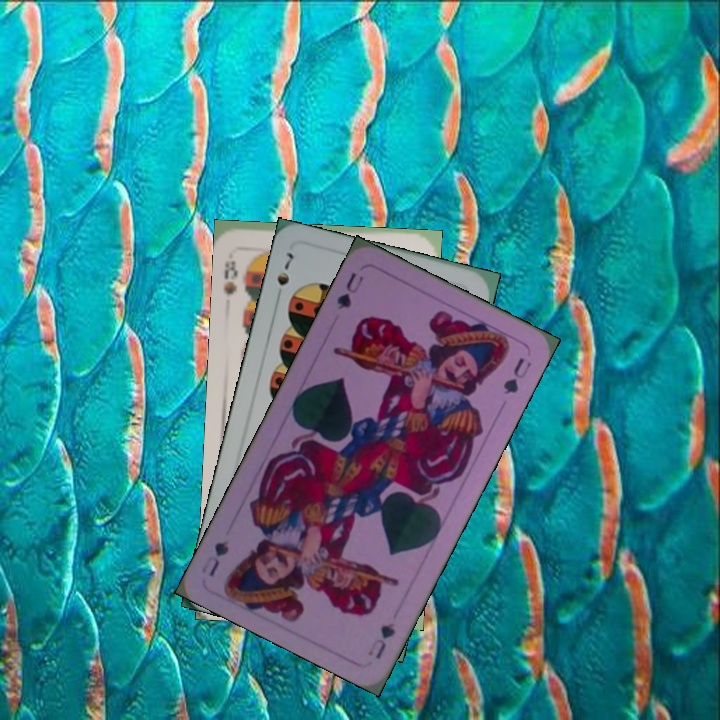GU: (363, 618, 398, 662), (332, 268, 366, 313)
S7: (271, 248, 297, 304)
S8: (219, 256, 241, 297)
